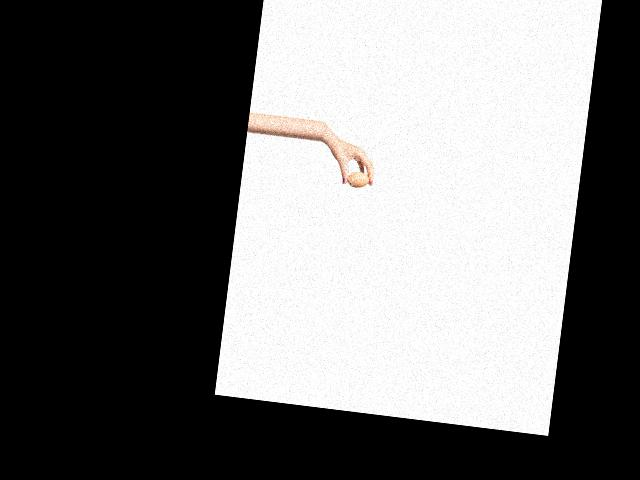egg: (346, 170, 369, 188)
